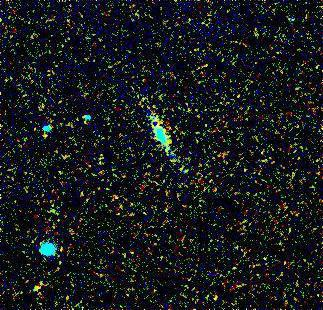star: (23, 274, 53, 304)
